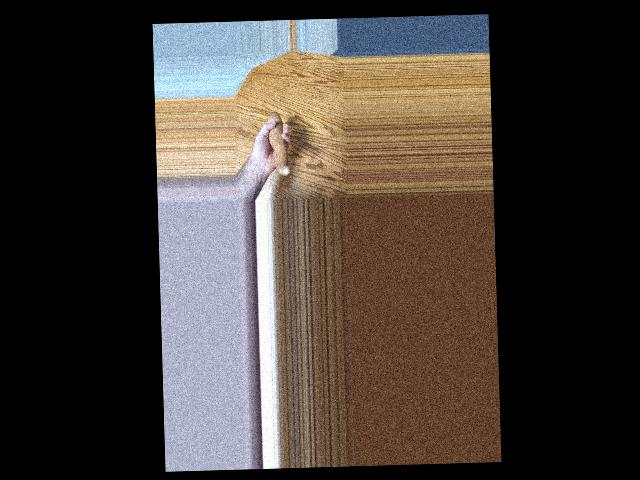sweet_potato: (264, 106, 288, 178)
